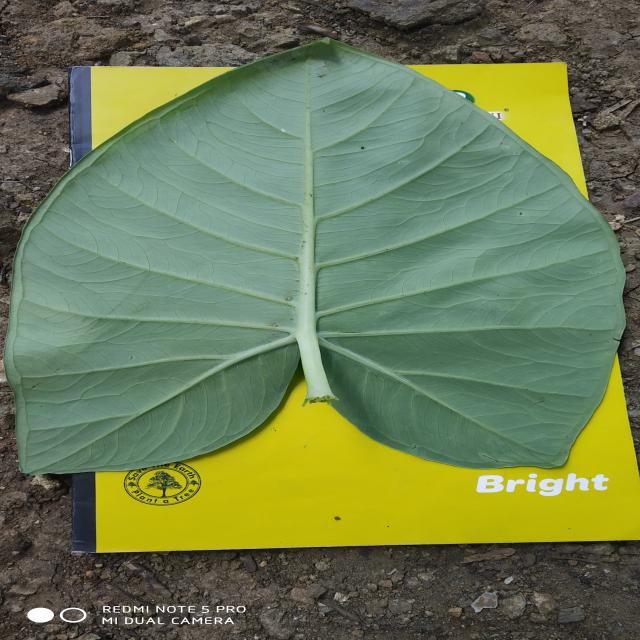taro: (7, 40, 624, 474)
